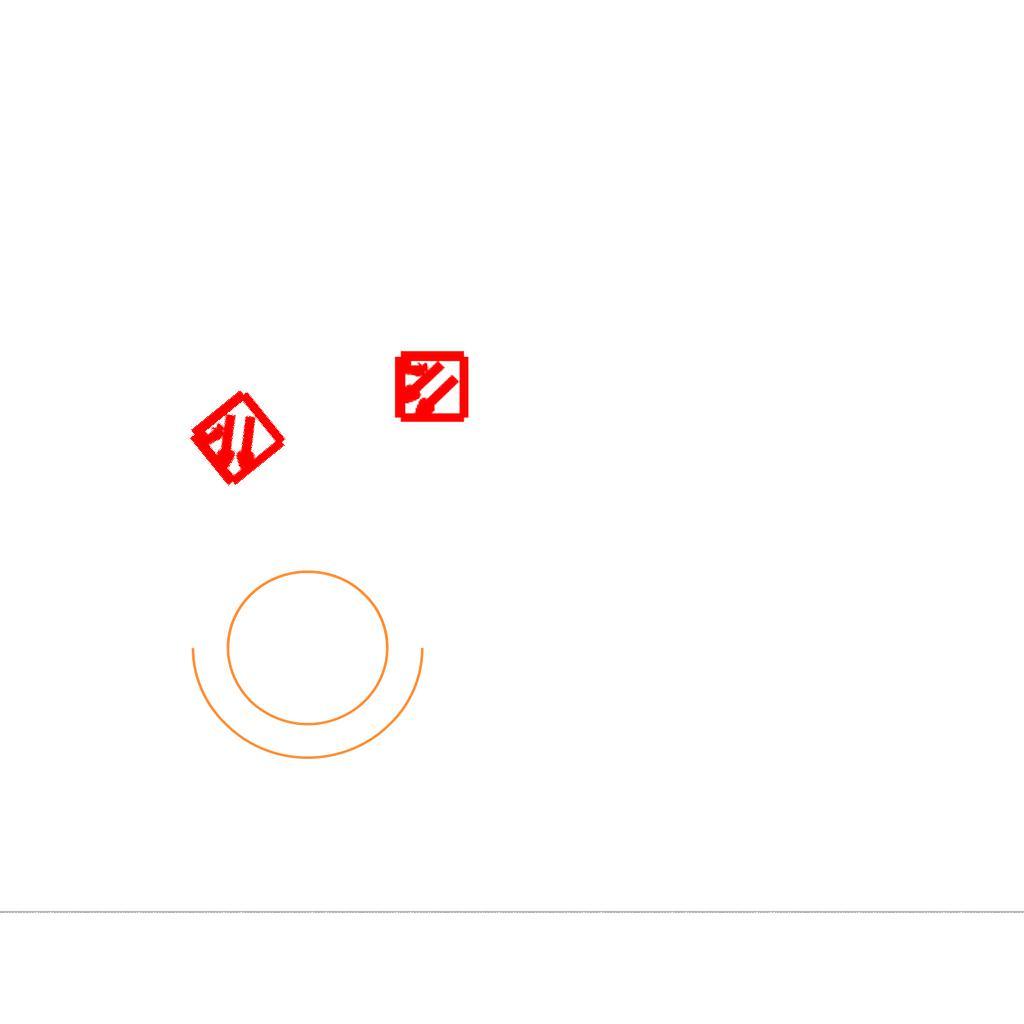OT_Multisensormelder_(Kombination_RMO_WMD): (156, 360, 315, 519), (373, 330, 486, 443)
Scheinwerfer_fuer_Alarmbeleuchtung: (182, 545, 446, 770)
